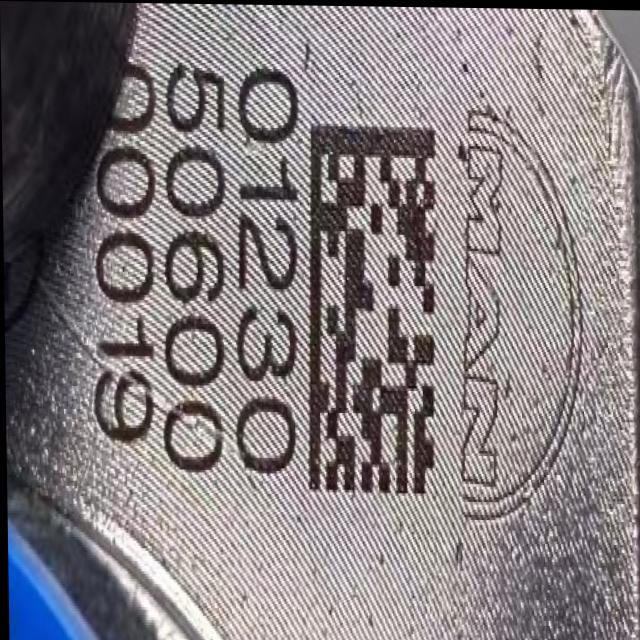dmc: (308, 123, 435, 492)
